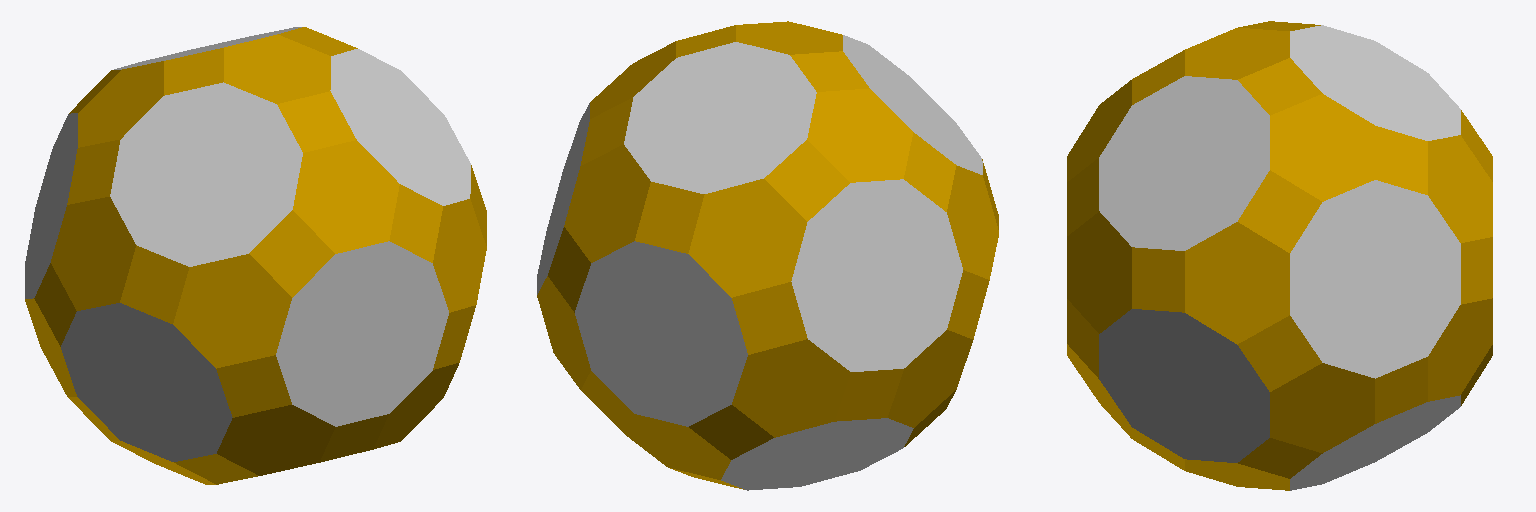
The model's file is s11enemy2.obj.
3 renders of one model, left to right at view 1: azimuth 30°, elevation 25°; view 2: azimuth 150°, elevation 25°; view 3: azimuth 270°, elevation 25°, orthographic.
Bounding box in the file's own units: 1.97 × 1.98 × 1.81.